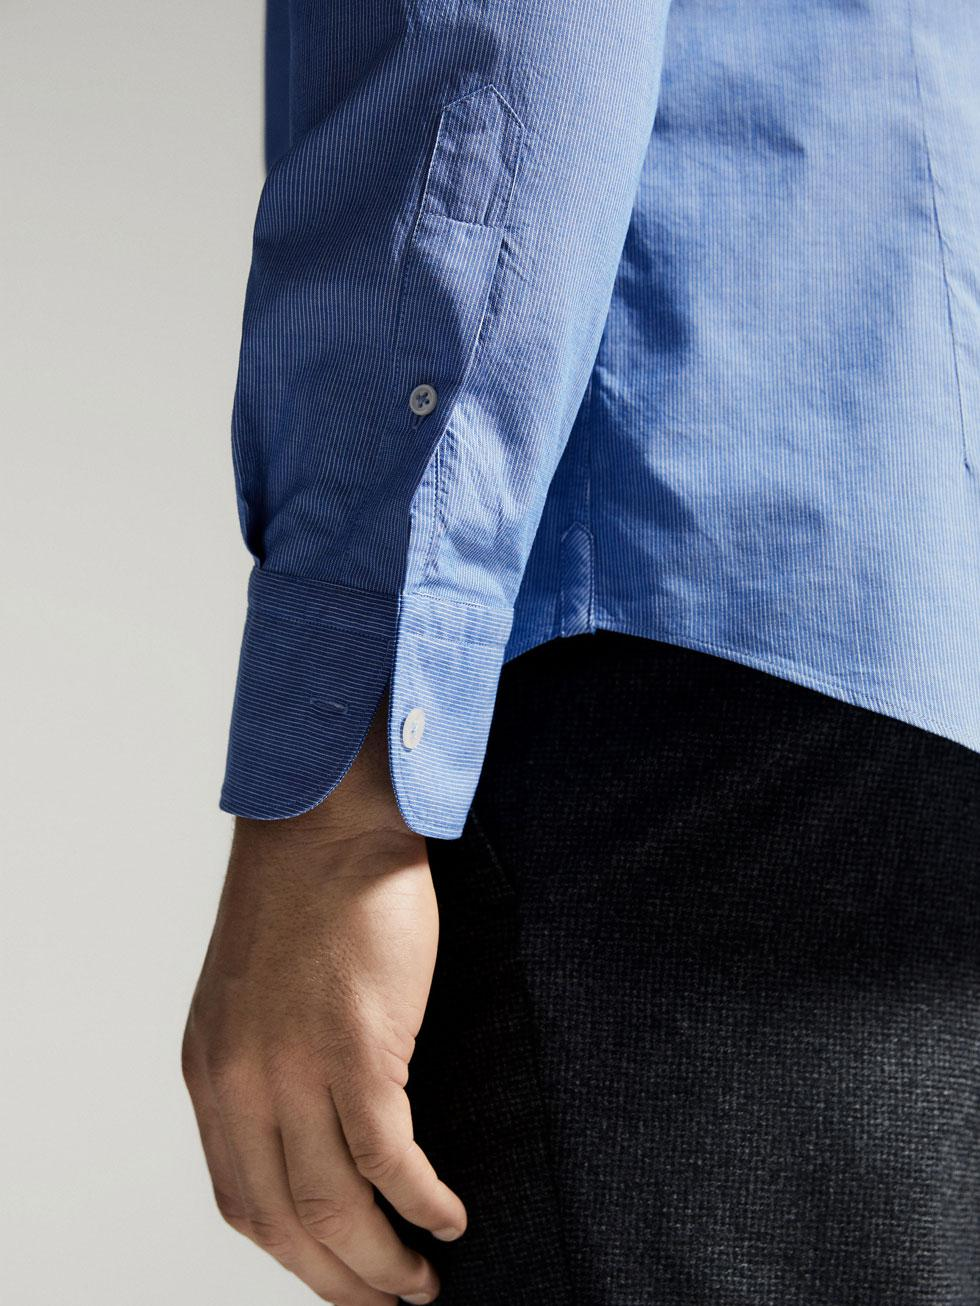teeshirt: (201, 1, 974, 861)
